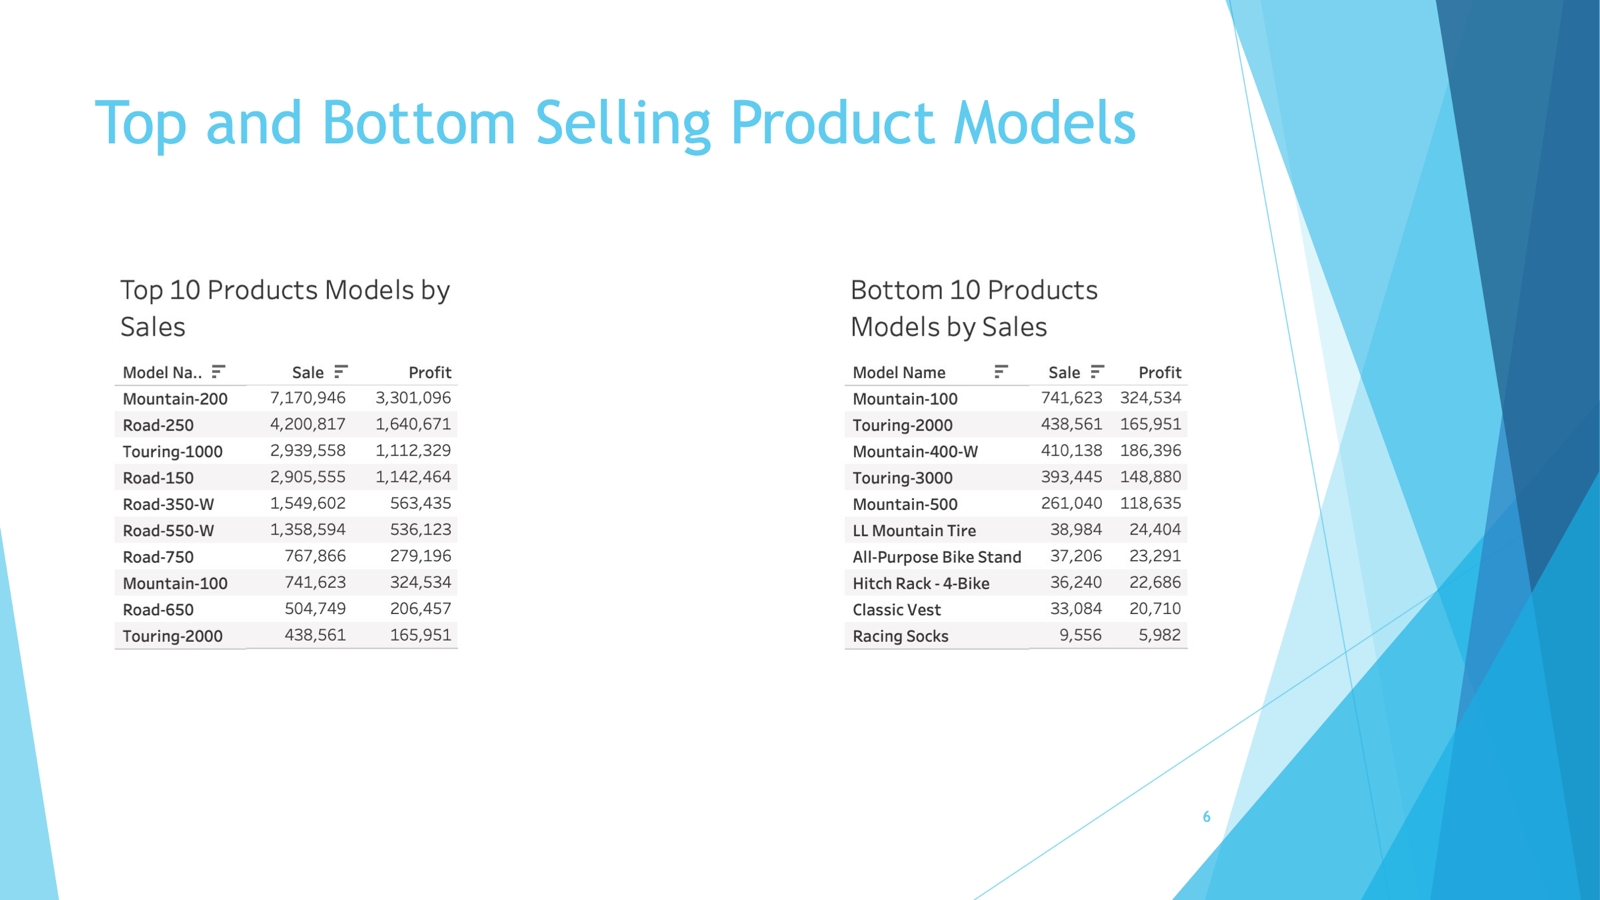

The page's visual inventory and layout, read from the dashboard file:
{"tool":"tableau","page":{"name":"Top & Bottom product models","canvas":[1000,1000],"units":"permille","ordinal":0},"visuals":[{"type":"worksheet","title":"Top 10","mark":"Automatic","rows":["ModelName"],"box":[6.2,11.3,432.4,977.3]},{"type":"worksheet","title":"Bottom 10","mark":"Automatic","rows":["ModelName"],"box":[438.5,11.3,432.4,977.3]},{"type":"filter","title":"Top 10","param":"[federated.0vzyzqy1tityij1d8n9n713mrxzz].[none:ModelName:nk]","box":[870.9,11.3,123,977.3]}]}

Visuals, with their boxes on the dashboard's canvas, which has no fixed pixel size, in thousandths of its width and height (x1, y1, x2, y2). These are canvas units, not pixel positions in the 1600x900 screenshot, which may show the page scaled, cropped or inside an application window:
"Top 10" worksheet: 6, 11, 439, 989
"Bottom 10" worksheet: 438, 11, 871, 989
"Top 10" filter: 871, 11, 994, 989
